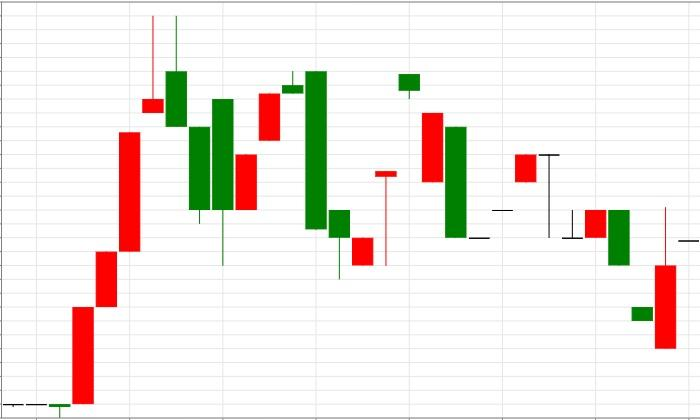bullish_engulfing_rise: (515, 153, 677, 349)
